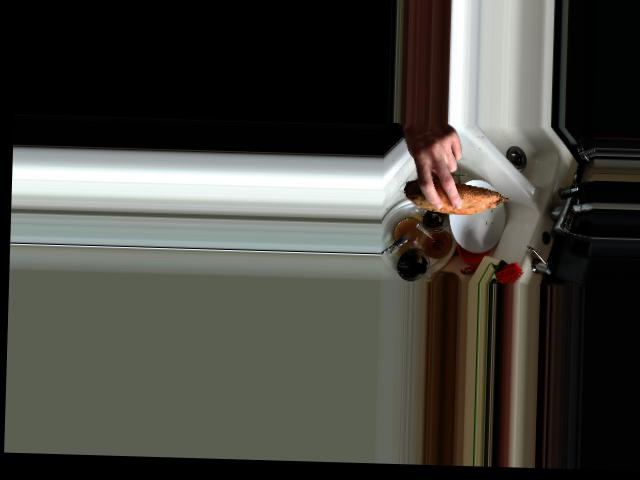sweet_potato: (400, 173, 513, 215)
